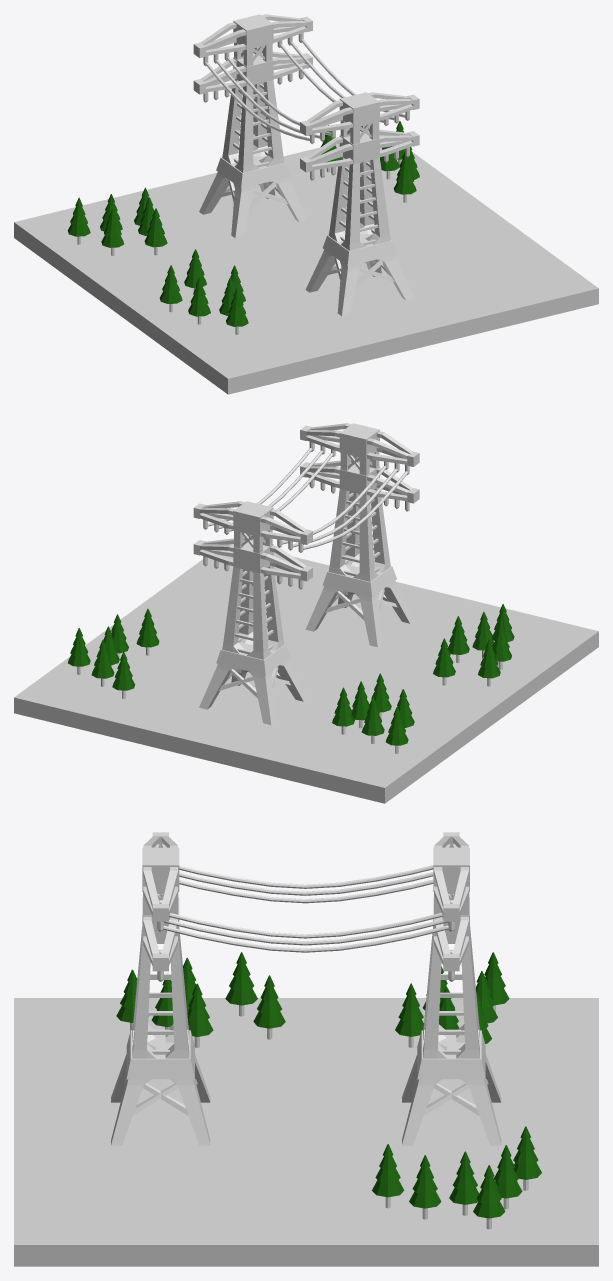
File: power pylon.fbx
3 views of the same model, one above another, from view 1: azimuth 30°, elevation 25°; view 2: azimuth 150°, elevation 25°; view 3: azimuth 270°, elevation 25° (orthographic). The views are drawn at different scales.
Parts seen in each view (by area): view 1: Cube, Cube.003, Cube.001, Cube.008, Cylinder.004, Cylinder.016, Cylinder.014, Cylinder.005, Cylinder.017, Cylinder.021, Cylinder.019; view 2: Cube, Cube.001, Cube.003, Cube.008, Cylinder.018, Cylinder.006, Cylinder.007, Cylinder.008, Cylinder.016, Cylinder.005, Cylinder.025, Cylinder.012 (+4 smaller); view 3: Cube, Cube.003, Cube.001, Cube.008, Cylinder.025, Cylinder.005, Cylinder.015, Cylinder.006, Cylinder.014, Cylinder.013, Cylinder.021, Cylinder.008 (+6 smaller).
Boxes of the visible parts, left/top/right/bottom form: Cube: left=14, top=135, right=598, bottom=394; Cube.003: left=300, top=92, right=419, bottom=316; Cube.001: left=193, top=14, right=312, bottom=238; Cube.008: left=205, top=39, right=405, bottom=141; Cylinder.004: left=188, top=277, right=210, bottom=324; Cylinder.016: left=67, top=197, right=90, bottom=244; Cylinder.014: left=393, top=155, right=416, bottom=202; Cylinder.005: left=159, top=265, right=182, bottom=312; Cylinder.017: left=101, top=209, right=123, bottom=255; Cylinder.021: left=144, top=208, right=167, bottom=255; Cylinder.019: left=226, top=288, right=248, bottom=334; Cube: left=14, top=544, right=598, bottom=803; Cube.001: left=193, top=501, right=312, bottom=725; Cube.003: left=300, top=423, right=419, bottom=647; Cube.008: left=208, top=448, right=408, bottom=549; Cylinder.018: left=332, top=687, right=354, bottom=734; Cylinder.006: left=433, top=638, right=455, bottom=685; Cylinder.007: left=91, top=640, right=114, bottom=686; Cylinder.008: left=112, top=651, right=135, bottom=698; Cylinder.016: left=385, top=707, right=408, bottom=753; Cylinder.005: left=478, top=639, right=500, bottom=686; Cylinder.025: left=68, top=628, right=90, bottom=674; Cylinder.012: left=361, top=697, right=384, bottom=743; Cube: left=14, top=998, right=598, bottom=1266; Cube.003: left=111, top=832, right=210, bottom=1145; Cube.001: left=402, top=832, right=501, bottom=1145; Cube.008: left=163, top=865, right=448, bottom=952; Cylinder.025: left=473, top=1165, right=505, bottom=1229; Cylinder.005: left=225, top=952, right=257, bottom=1016; Cylinder.015: left=409, top=1155, right=441, bottom=1219; Cylinder.006: left=253, top=975, right=285, bottom=1039; Cylinder.014: left=372, top=1144, right=404, bottom=1208; Cylinder.013: left=449, top=1151, right=479, bottom=1215; Cylinder.021: left=395, top=983, right=423, bottom=1047; Cylinder.008: left=513, top=1126, right=541, bottom=1190.
Size of the model in its own units: 1818 by 982 by 1818.
